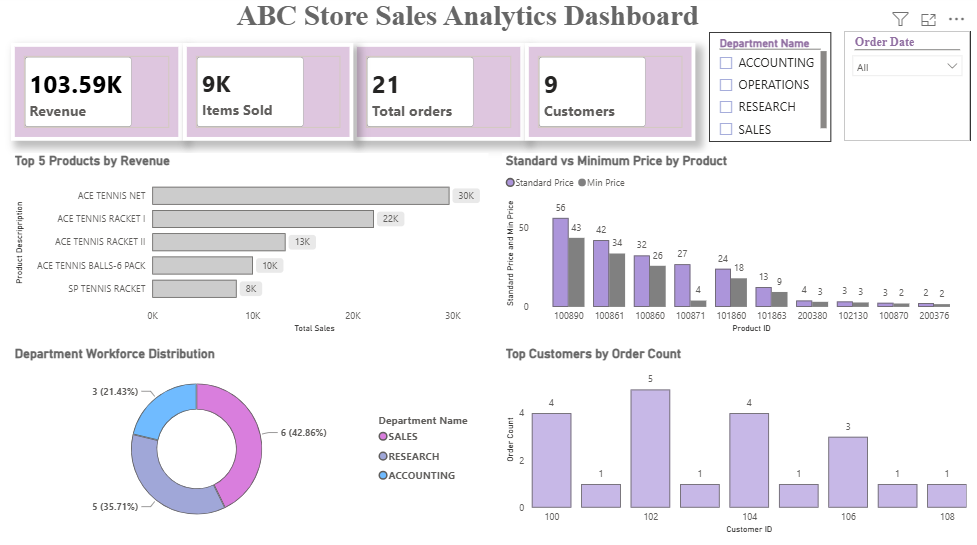

The dashboard page shown, as its layout file describes it:
{"tool":"powerbi","page":{"name":"Page 1","canvas":[1280,720],"ordinal":0},"visuals":[{"type":"textbox","box":[0,0,1224,72],"z":0},{"type":"cardVisual","fields":{"Data":["O_CUSTOMER.Total Revenues"]},"box":[14.4,63.4,224.6,128.2],"z":1000},{"type":"cardVisual","fields":{"Data":["O_CUSTOMER.Total orders"]},"box":[462.2,63.4,224.6,128.2],"z":2000},{"type":"cardVisual","fields":{"Data":["O_CUSTOMER.Customers"]},"box":[686.9,63.4,223.2,128.2],"z":3000},{"type":"cardVisual","fields":{"Data":["O_CUSTOMER.Items Sold"]},"box":[239,63.4,223.2,128.2],"z":4000},{"type":"slicer","fields":{"Values":["O_ORD.ORDERDATE"]},"box":[1104.5,47.5,165.6,144],"z":5000},{"type":"slicer","fields":{"Values":["O_DEPT.DNAME"]},"box":[928,48,160,144],"z":6000},{"type":"clusteredBarChart","title":"Top 5 Products by Revenue","fields":{"Category":["O_PRODUCT.DESCRIP"],"Y":["Sum(O_ITEM.ITEMTOT)"]},"box":[14.4,207.4,625,240.5],"z":7000},{"type":"clusteredColumnChart","title":"Top Customers by Order Count","fields":{"Category":["O_CUSTOMER.CUSTID"],"Y":["O_CUSTOMER.Order Count"]},"box":[656.6,459.4,613.4,250.6],"z":8000},{"type":"donutChart","title":"Department Workforce Distribution","fields":{"Category":["O_DEPT.DNAME"],"Y":["Count(O_EMP.EMPNO)"]},"box":[14.4,459.4,625,250.6],"z":9000},{"type":"clusteredColumnChart","title":"Standard vs Minimum Price by Product","fields":{"Y":["Avg(O_PRICE.STDPRICE)","Avg(O_PRICE.MINPRICE)"],"Category":["O_PRICE.PRODID"]},"box":[656.6,207.4,613.4,240.5],"z":10000}]}

Visuals, with their boxes in screenshot pixels (x1, y1, x2, y2), scaled from the page's 1280x720 canvas onto the 977x545 screenshot:
textbox: detection(0, 0, 934, 54)
cardVisual - O_CUSTOMER.Total Revenues: detection(11, 48, 182, 145)
cardVisual - O_CUSTOMER.Total orders: detection(353, 48, 524, 145)
cardVisual - O_CUSTOMER.Customers: detection(524, 48, 695, 145)
cardVisual - O_CUSTOMER.Items Sold: detection(182, 48, 353, 145)
slicer - O_ORD.ORDERDATE: detection(843, 36, 969, 145)
slicer - O_DEPT.DNAME: detection(708, 36, 830, 145)
"Top 5 Products by Revenue" clusteredBarChart: detection(11, 157, 488, 339)
"Top Customers by Order Count" clusteredColumnChart: detection(501, 348, 969, 537)
"Department Workforce Distribution" donutChart: detection(11, 348, 488, 537)
"Standard vs Minimum Price by Product" clusteredColumnChart: detection(501, 157, 969, 339)
